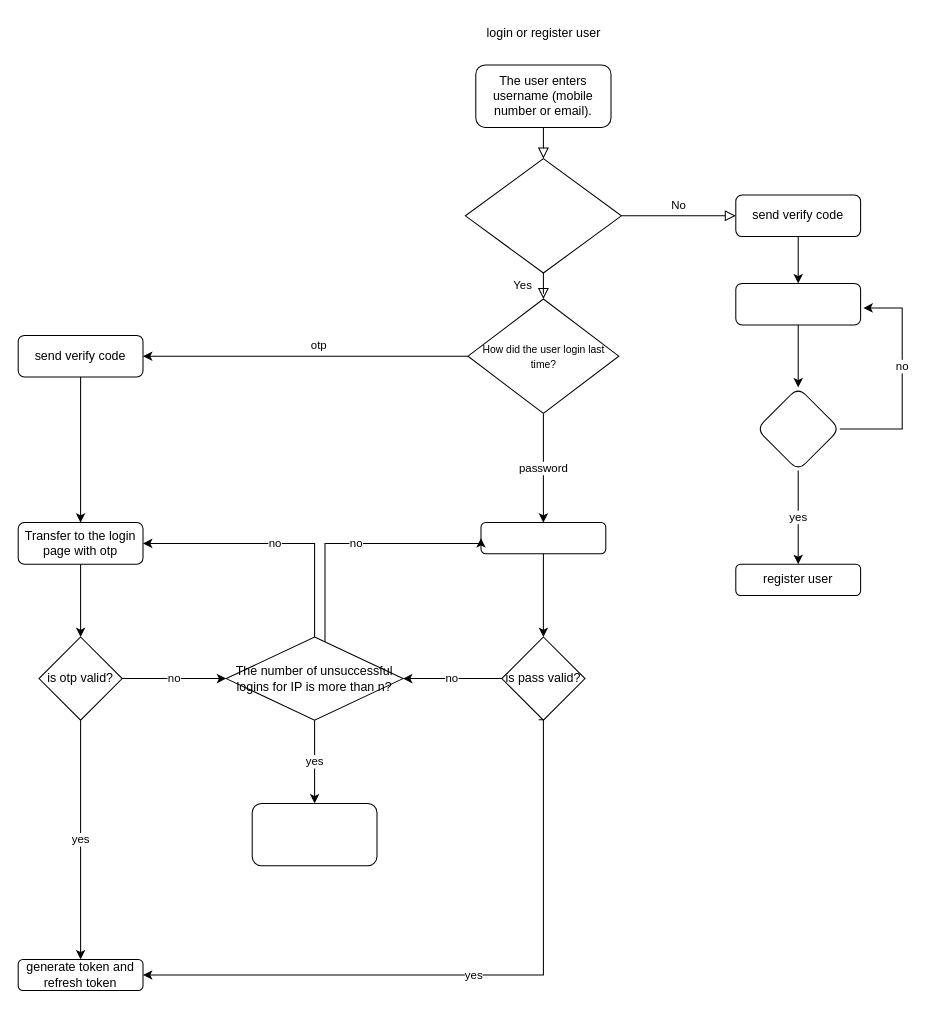
Some shapes in this 929 by 1009 pixel diagram are drawn without their labels. Here are the shapes that lost their labels. From the top down, the box of each, then its label:
(464, 158, 621, 273): user exist?
(735, 282, 861, 325): Transfer to the register page
(756, 386, 840, 471): is verify code valid?
(480, 522, 606, 554): Transfer to the login page with pass
(251, 802, 377, 866): Blocking the user for n day
